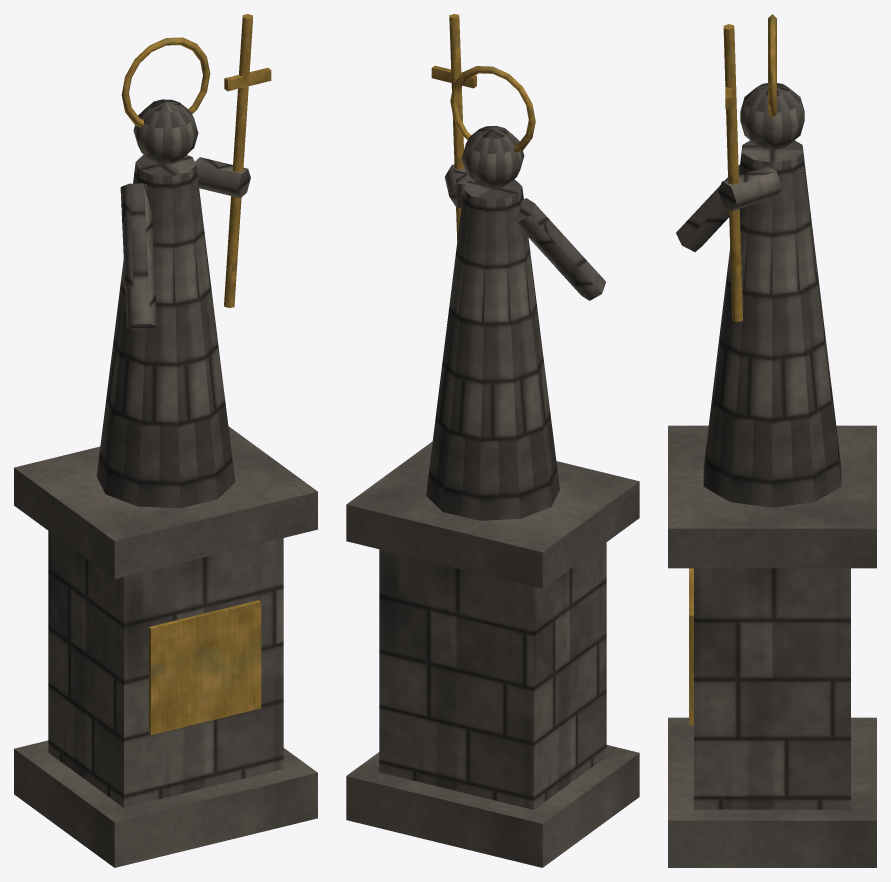
The model's file is bridge_statue.gltf.
3 renders of one model, left to right at view 1: azimuth 30°, elevation 25°; view 2: azimuth 150°, elevation 25°; view 3: azimuth 270°, elevation 25°, orthographic. The views are drawn at different scales.
Visible parts, largest first — view 1: bridge_statue_mesh; view 2: bridge_statue_mesh; view 3: bridge_statue_mesh.
Boxes of the visible parts, x1,y1,x2,y2 form: bridge_statue_mesh: [14, 14, 317, 867]; bridge_statue_mesh: [346, 14, 639, 867]; bridge_statue_mesh: [668, 14, 876, 867].
Size of what is drawn, in the model's own units: 1.4 by 5.2 by 1.2.
Materials: 4 (4 with a texture image).
